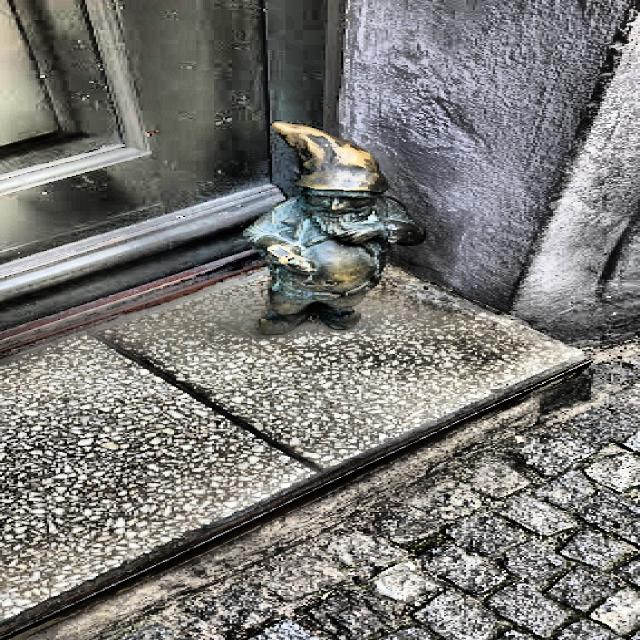TatuazystaKonstanty: (244, 123, 424, 334)
